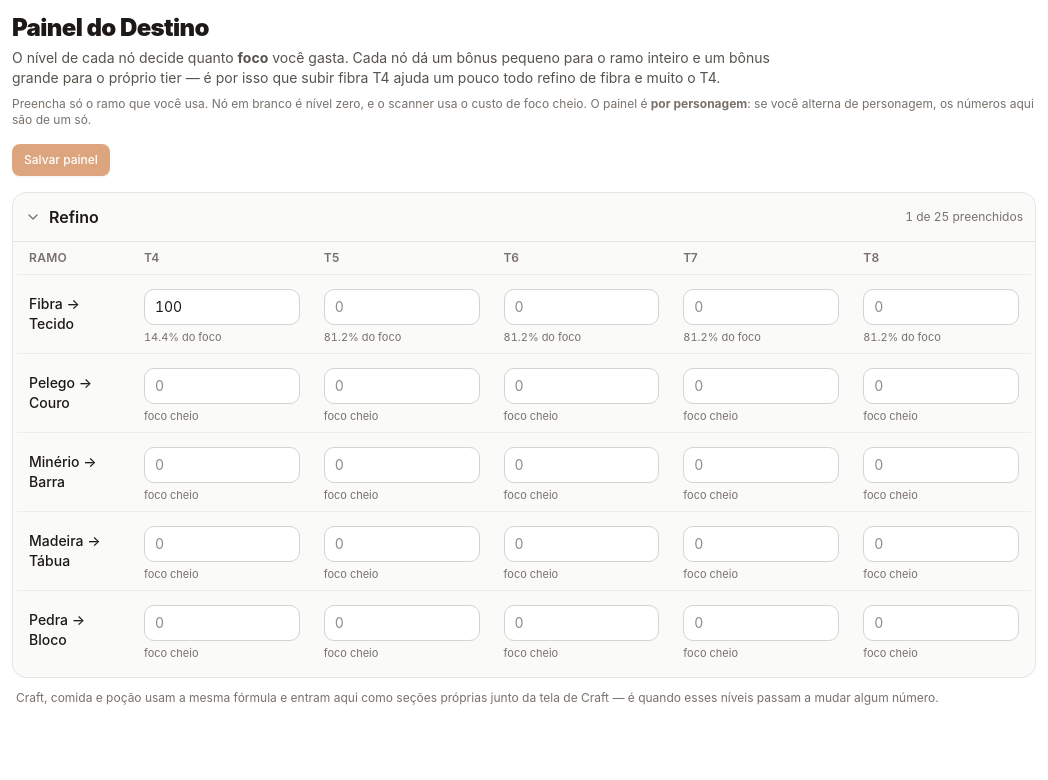
Test case: cada categoria é uma seção que abre e fecha
Click the button "Refino 1 de 25 preenchidos".
click(74, 217)  # box [13,193,1035,241]
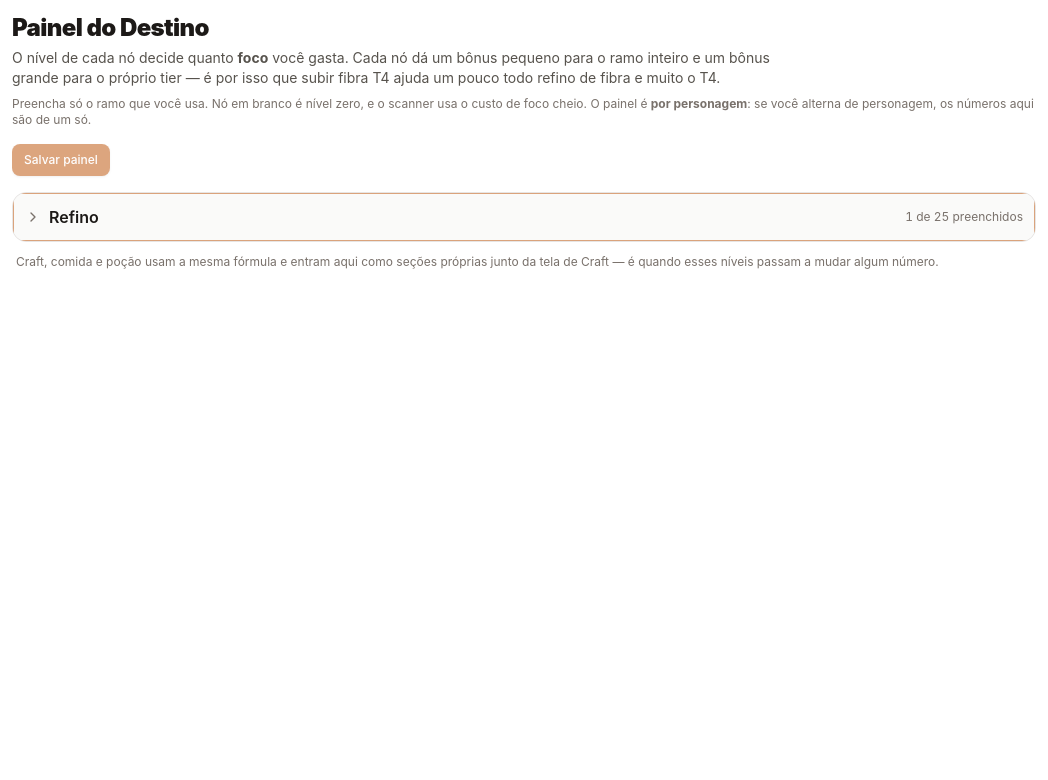
expect the button "Refino 1 de 25 preenchidos" is collapsed: met, box [13,193,1035,241]
